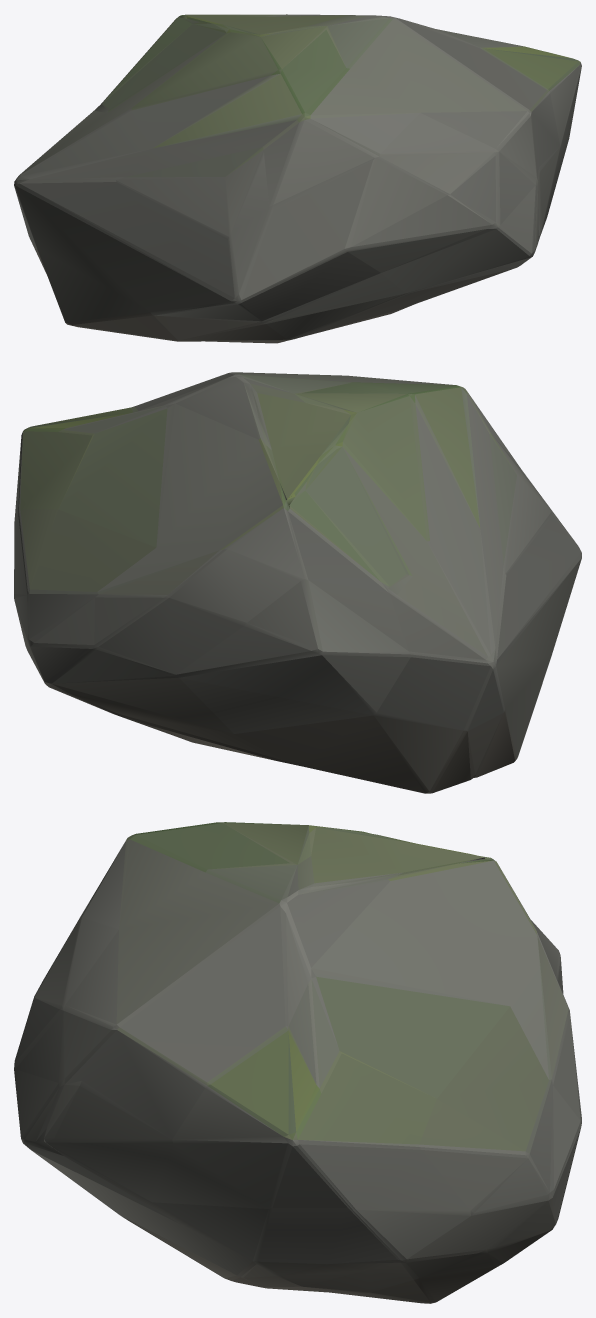
File: rock_a_lod1.glb
3 renders of one model, top to bottom at view 1: azimuth 30°, elevation 25°; view 2: azimuth 150°, elevation 25°; view 3: azimuth 270°, elevation 25°, orthographic. The views are drawn at different scales.
Visible parts, largest first — view 1: rock_a_lod1; view 2: rock_a_lod1; view 3: rock_a_lod1.
Boxes of the visible parts, x1,y1,x2,y2 form: rock_a_lod1: (14,14,581,343); rock_a_lod1: (14,372,581,793); rock_a_lod1: (14,822,581,1303).
Size of the model in its own units: 2.46 by 1.28 by 1.92.
